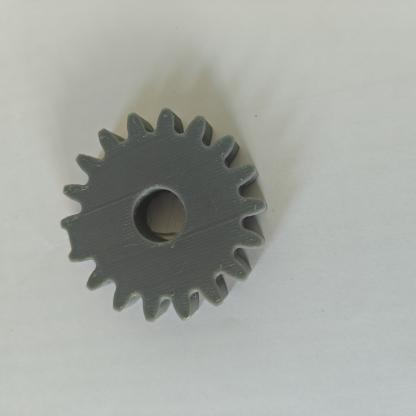defect: (49, 202, 115, 272)
gear: (43, 101, 282, 341)
